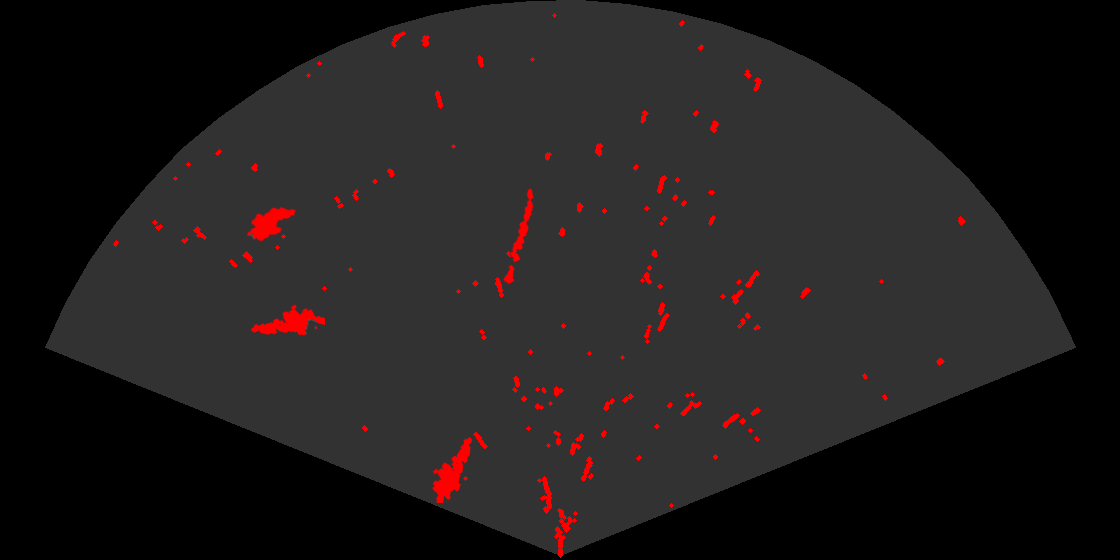AUV: (245, 205, 298, 243)
chain: (502, 187, 535, 287)
frogman: (431, 435, 474, 503), (249, 303, 325, 337)
